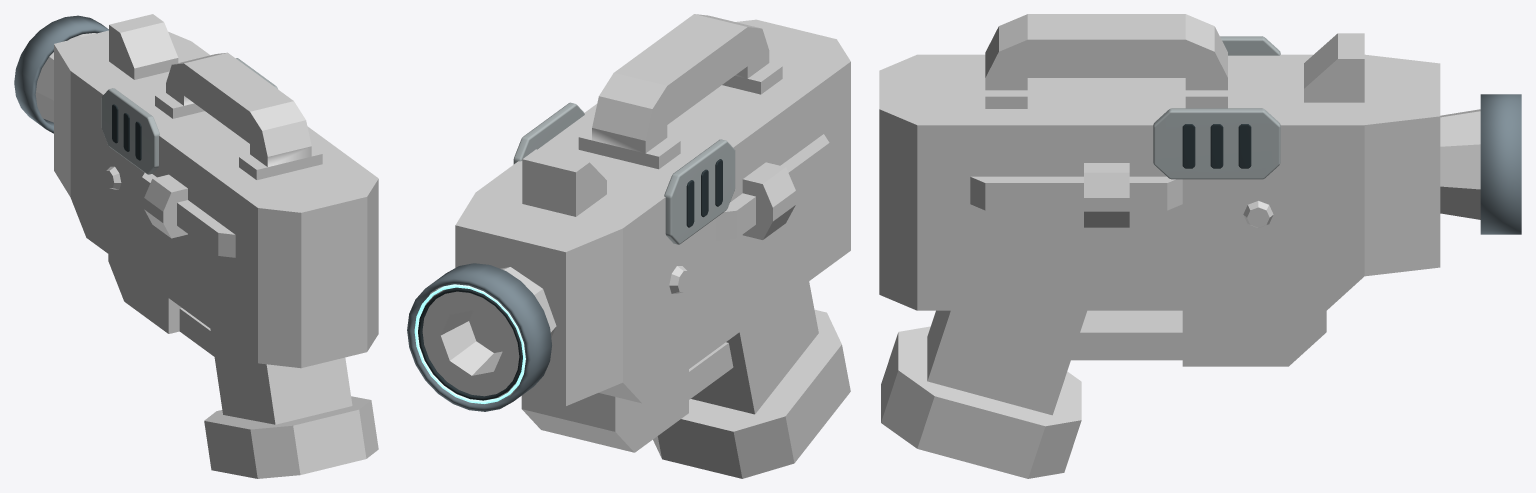
File: blaster-b-mk3.glb
The picture shows the model from 3 angles, left to right: view 1: azimuth 30°, elevation 25°; view 2: azimuth 150°, elevation 25°; view 3: azimuth 270°, elevation 25°; orthographic projection. The views are drawn at different scales.
Parts seen in each view (by area): view 1: Pink War MKIII / R9; view 2: Pink War MKIII / R9; view 3: Pink War MKIII / R9.
Part boxes in pixels (<box>): Pink War MKIII / R9: <box>14,14,378,478</box>; Pink War MKIII / R9: <box>407,14,850,478</box>; Pink War MKIII / R9: <box>879,14,1521,478</box>.
Bounding box in the file's own units: 0.155 × 0.3105 × 0.4236.
